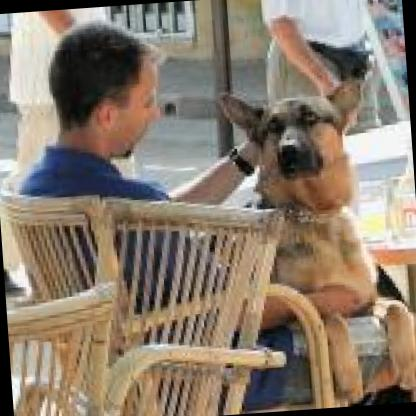German_shepherd: (186, 51, 416, 411)
